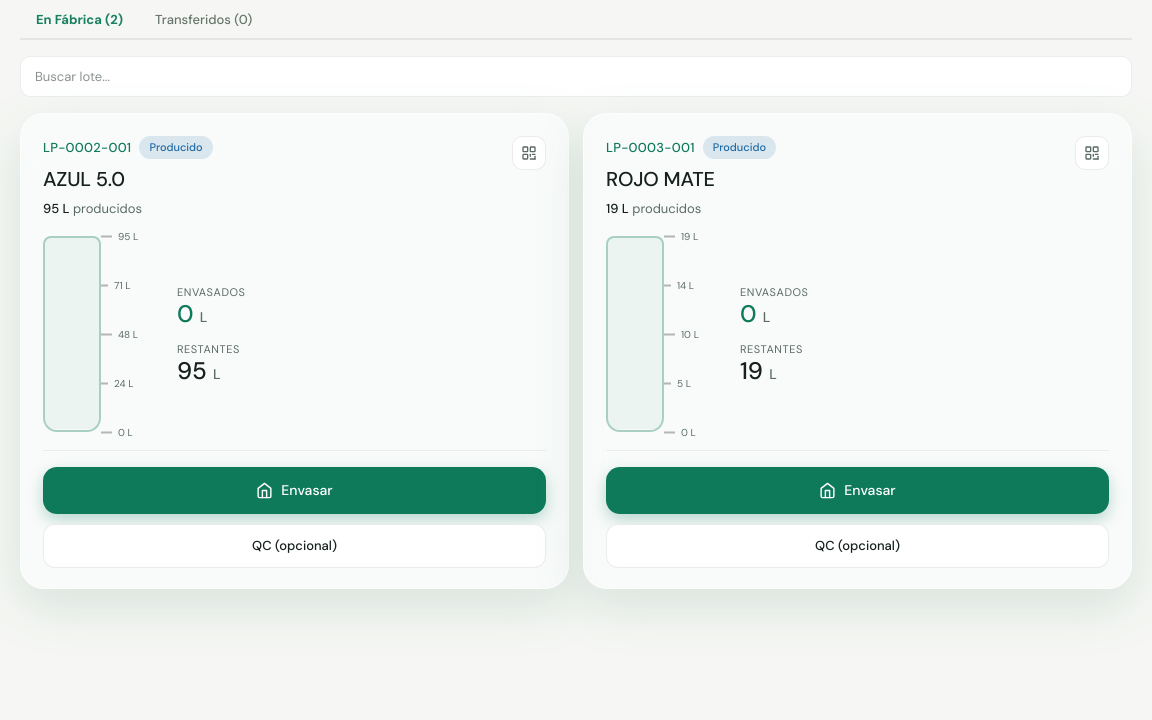
Test case: F9 — memoria al envasar, por producto › el AZUL arranca como la última vez (galón Premium) y lo dice
Expected: the text "LP-0002-001" is shown, [43,138,131,157]
Click the button "Envasar" below "24". click: {"x": 294, "y": 490}
box: [43,467,546,514]
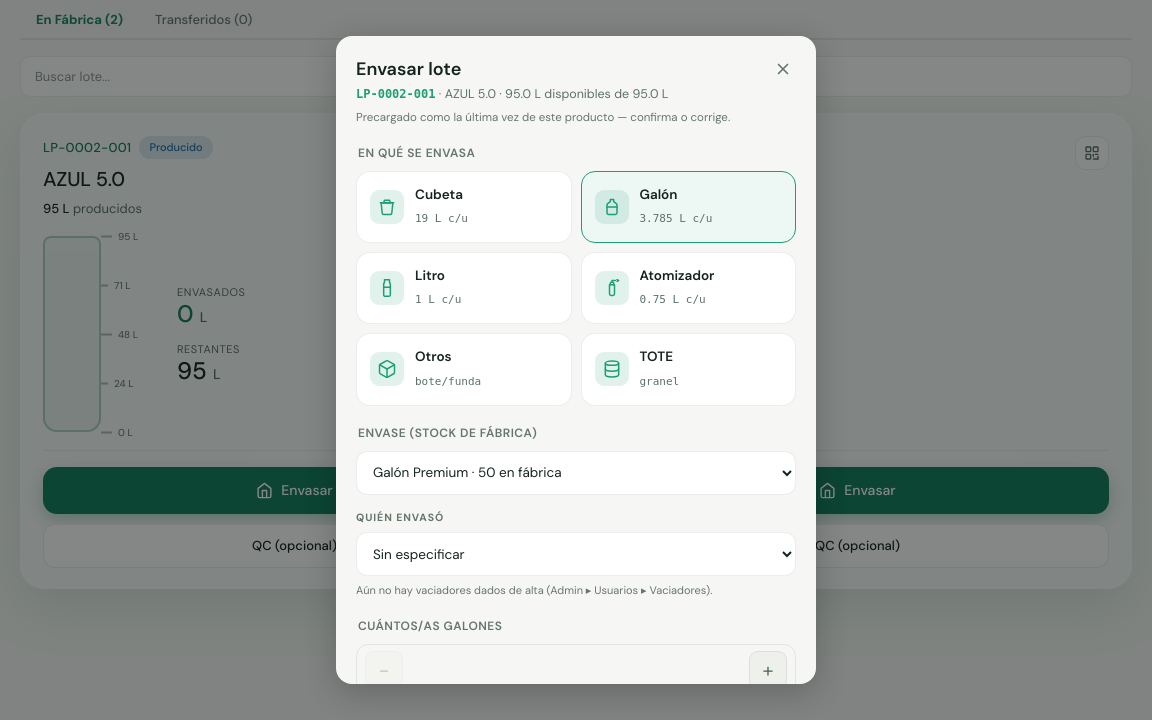
Expected: the text "Envasar lote" is shown, [356,57,461,81]
Expected: the text "Precargado como la última vez de este producto — confirma o corrige." is shown, [356,110,730,126]
Expected: the 1st dropdown shows "Galón Premium · 50 en fábrica", [356,451,796,495]
